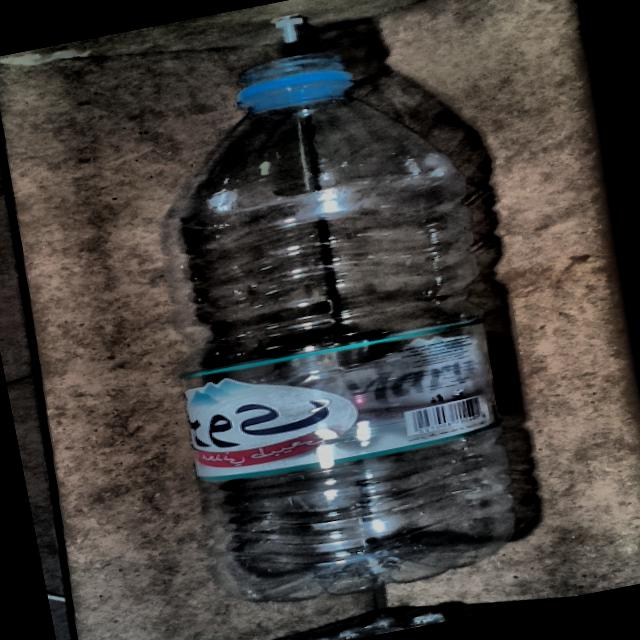plastic bottle: (168, 52, 517, 603)
